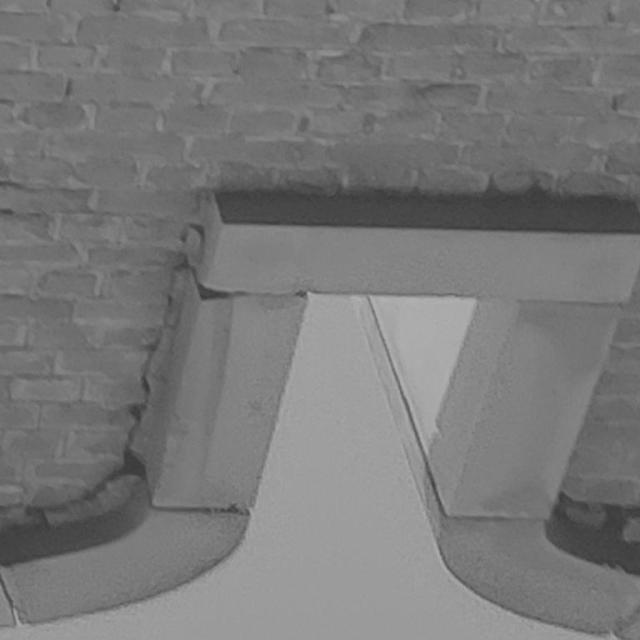crack: (26, 222, 204, 529), (555, 490, 640, 575)
